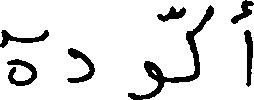X: (130, 9, 163, 99), (0, 25, 36, 90), (187, 0, 212, 86), (67, 43, 95, 87), (245, 0, 253, 91)
